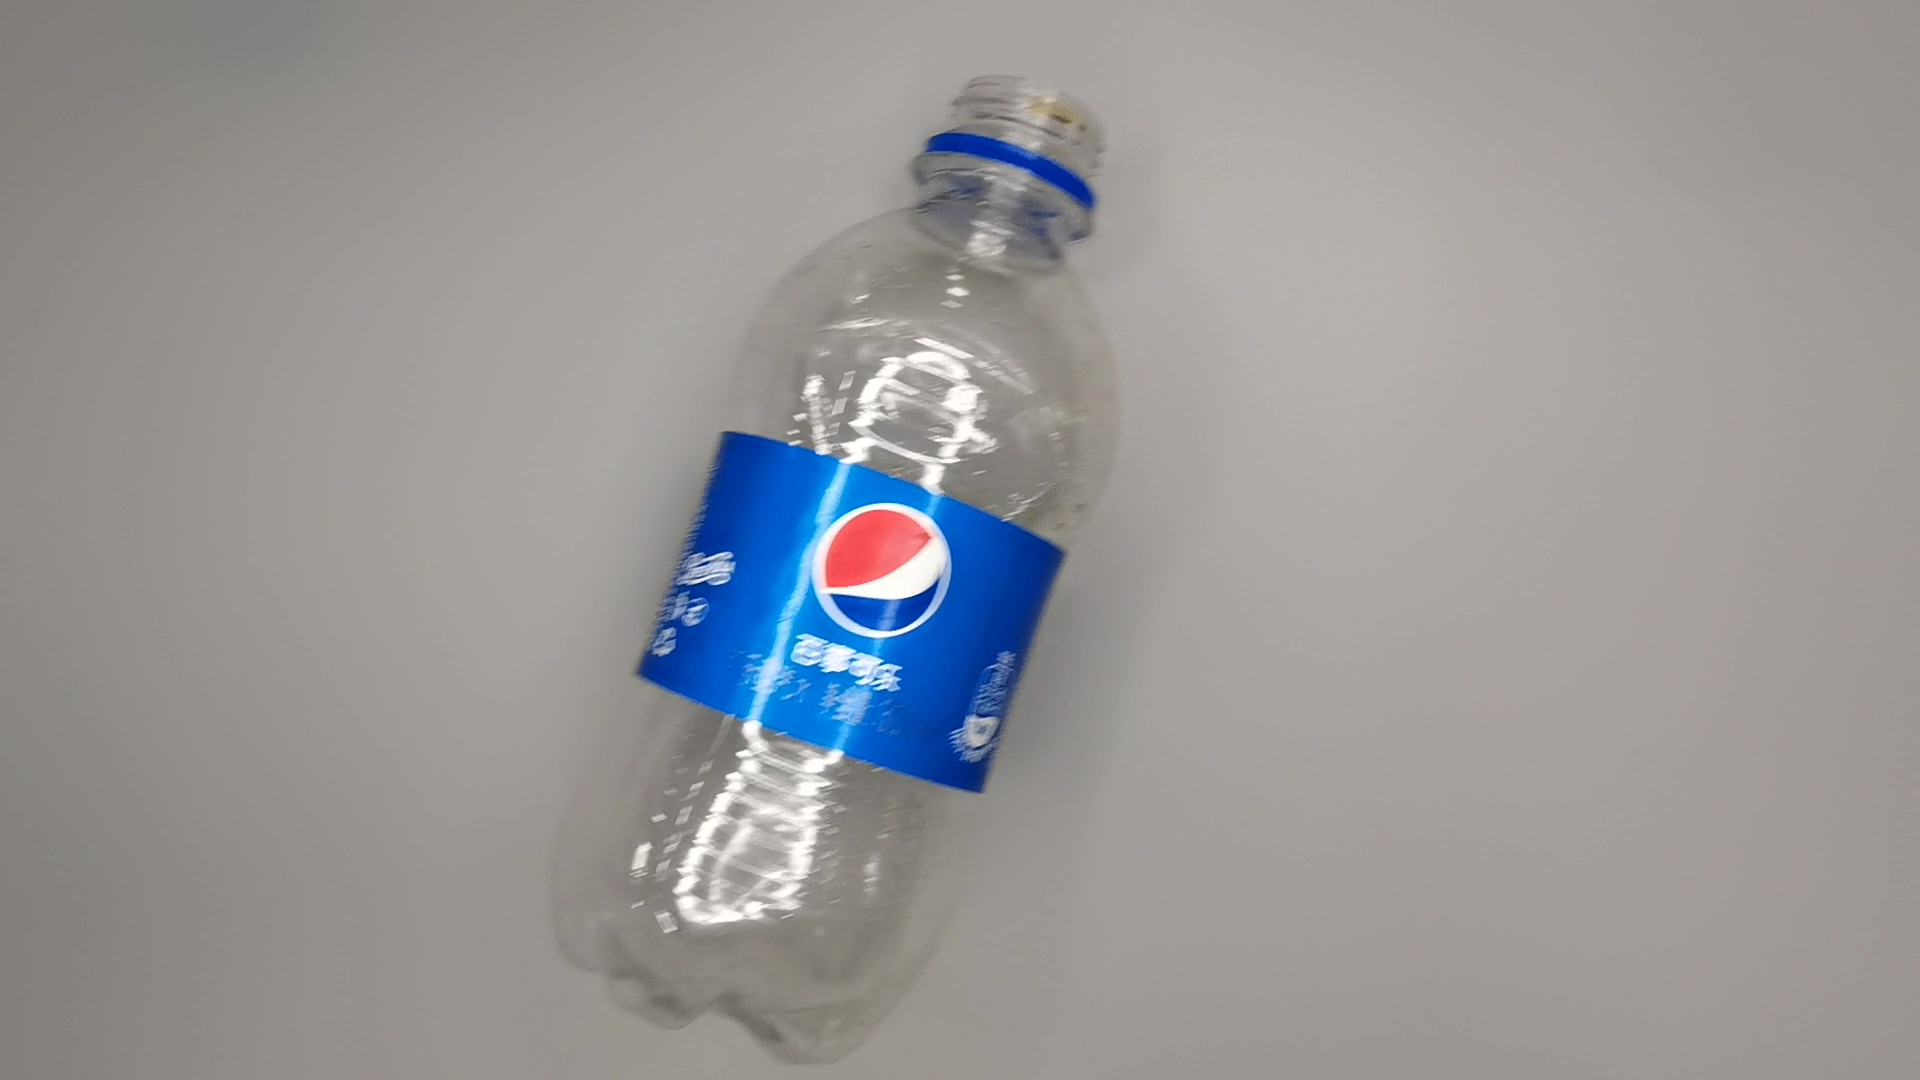bottle: (549, 69, 1135, 1075)
